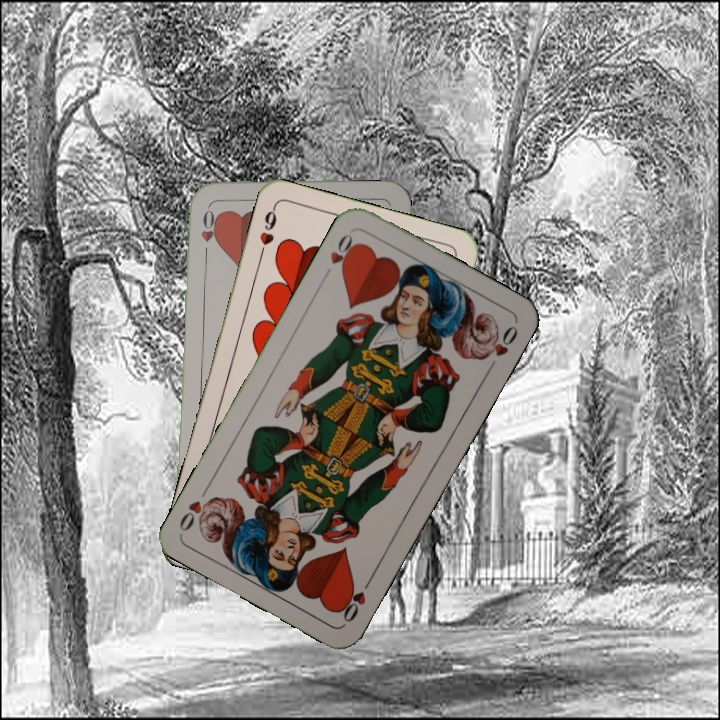H9: (255, 203, 279, 261)
HO: (319, 229, 361, 281), (335, 572, 376, 625), (197, 201, 216, 261)
